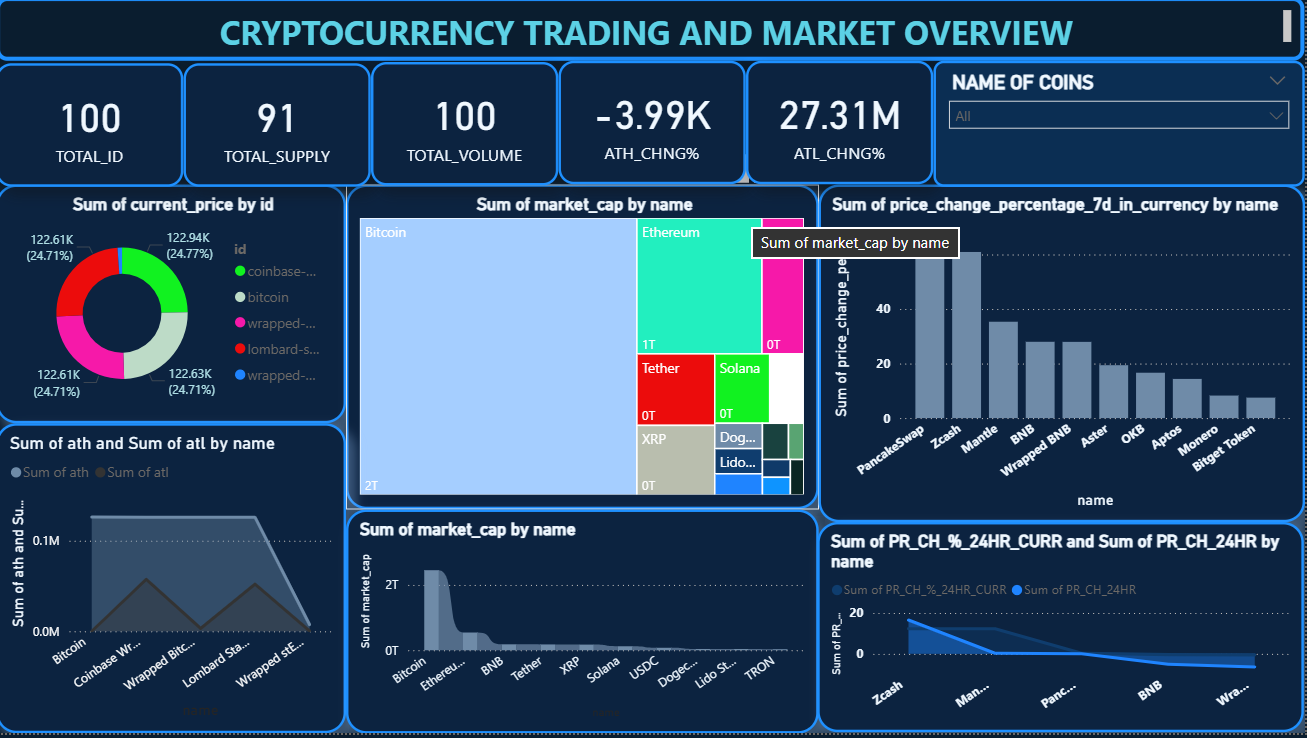

What the dashboard file says about the page in this screenshot:
{"tool":"powerbi","page":{"name":"dashboard","canvas":[1280,720],"ordinal":12},"visuals":[{"type":"textbox","box":[0,0,1280.3,62.4],"z":0},{"type":"donutChart","fields":{"Category":["markets?vs_currency=usd&order=market_cap_desc&per_page=100&page=1&price_change_p.id"],"Y":["Sum(markets?vs_currency=usd&order=market_cap_desc&per_page=100&page=1&price_change_p.current_price)"]},"box":[0,183.4,342.4,233.6],"z":1000},{"type":"treemap","fields":{"Group":["markets?vs_currency=usd&order=market_cap_desc&per_page=100&page=1&price_change_p.name"],"Values":["Sum(markets?vs_currency=usd&order=market_cap_desc&per_page=100&page=1&price_change_p.market_cap)"]},"box":[342.4,183.4,462.2,317.9],"z":2000},{"type":"areaChart","fields":{"Category":["markets?vs_currency=usd&order=market_cap_desc&per_page=100&page=1&price_change_p.name"],"Y":["Sum(markets?vs_currency=usd&order=market_cap_desc&per_page=100&page=1&price_change_p.ath)","Sum(markets?vs_currency=usd&order=market_cap_desc&per_page=100&page=1&price_change_p.atl)"]},"box":[0,417,342.4,303.3],"z":3000},{"type":"clusteredColumnChart","fields":{"Category":["markets?vs_currency=usd&order=market_cap_desc&per_page=100&page=1&price_change_p.name"],"Y":["Sum(markets?vs_currency=usd&order=market_cap_desc&per_page=100&page=1&price_change_p.price_change_percentage_7d_in_curre"]},"box":[804.1,183.9,476.2,330.7],"z":4000},{"type":"ribbonChart","fields":{"Category":["markets?vs_currency=usd&order=market_cap_desc&per_page=100&page=1&price_change_p.name"],"Y":["Sum(markets?vs_currency=usd&order=market_cap_desc&per_page=100&page=1&price_change_p.market_cap)"]},"box":[342.4,501.4,462.2,218.9],"z":5000},{"type":"card","fields":{"Values":["Count(markets?vs_currency=usd&order=market_cap_desc&per_page=100&page=1&price_change_p.id)"]},"box":[0,64.8,183.4,121.1],"z":6000},{"type":"card","fields":{"Values":["Count(markets?vs_currency=usd&order=market_cap_desc&per_page=100&page=1&price_change_p.total_supply)"]},"box":[183.4,64.8,183.4,121.1],"z":7000},{"type":"card","fields":{"Values":["Count(markets?vs_currency=usd&order=market_cap_desc&per_page=100&page=1&price_change_p.total_volume)"]},"box":[366.8,63.6,183.4,121.1],"z":8000},{"type":"card","fields":{"Values":["Sum(markets?vs_currency=usd&order=market_cap_desc&per_page=100&page=1&price_change_p.ath_change_percentage)"]},"box":[550.3,62.4,183.4,121.1],"z":9000},{"type":"card","fields":{"Values":["Sum(markets?vs_currency=usd&order=market_cap_desc&per_page=100&page=1&price_change_p.atl_change_percentage)"]},"box":[733.7,62.4,183.4,121.1],"z":10000},{"type":"areaChart","fields":{"Category":["markets?vs_currency=usd&order=market_cap_desc&per_page=100&page=1&price_change_p.name"],"Y":["Sum(markets?vs_currency=usd&order=market_cap_desc&per_page=100&page=1&price_change_p.PR_CH_%_24HR_CURR)","Sum(markets?vs_currency=usd&order=market_cap_desc&per_page=100&page=1&price_change_p.PR_CH_24HR)"]},"box":[804,514.2,476.3,205.4],"z":11000},{"type":"slicer","fields":{"Values":["markets?vs_currency=usd&order=market_cap_desc&per_page=100&page=1&price_change_p.name"]},"box":[917.1,62.4,363.2,123.5],"z":12000}]}

Visuals, with their boxes in screenshot pixels (x1, y1, x2, y2), scaled from the page's 1280x720 canvas onto the 1307x738 screenshot:
textbox: crop(0, 0, 1306, 64)
donutChart - markets?vs_currency=usd&order=market_cap_desc&per_page=100&page=1&price_change_p.id x Sum(markets?vs_currency=usd&order=market_cap_desc&per_page=100&page=1&price_change_p.current_price): crop(0, 188, 350, 427)
treemap - markets?vs_currency=usd&order=market_cap_desc&per_page=100&page=1&price_change_p.name x Sum(markets?vs_currency=usd&order=market_cap_desc&per_page=100&page=1&price_change_p.market_cap): crop(350, 188, 822, 514)
areaChart - markets?vs_currency=usd&order=market_cap_desc&per_page=100&page=1&price_change_p.name x Sum(markets?vs_currency=usd&order=market_cap_desc&per_page=100&page=1&price_change_p.ath): crop(0, 427, 350, 737)
clusteredColumnChart - markets?vs_currency=usd&order=market_cap_desc&per_page=100&page=1&price_change_p.name x Sum(markets?vs_currency=usd&order=market_cap_desc&per_page=100&page=1&price_change_p.price_change_percentage_7d_in_curre: crop(821, 188, 1306, 527)
ribbonChart - markets?vs_currency=usd&order=market_cap_desc&per_page=100&page=1&price_change_p.name x Sum(markets?vs_currency=usd&order=market_cap_desc&per_page=100&page=1&price_change_p.market_cap): crop(350, 514, 822, 737)
card - Count(markets?vs_currency=usd&order=market_cap_desc&per_page=100&page=1&price_change_p.id): crop(0, 66, 187, 191)
card - Count(markets?vs_currency=usd&order=market_cap_desc&per_page=100&page=1&price_change_p.total_supply): crop(187, 66, 375, 191)
card - Count(markets?vs_currency=usd&order=market_cap_desc&per_page=100&page=1&price_change_p.total_volume): crop(375, 65, 562, 189)
card - Sum(markets?vs_currency=usd&order=market_cap_desc&per_page=100&page=1&price_change_p.ath_change_percentage): crop(562, 64, 749, 188)
card - Sum(markets?vs_currency=usd&order=market_cap_desc&per_page=100&page=1&price_change_p.atl_change_percentage): crop(749, 64, 936, 188)
areaChart - markets?vs_currency=usd&order=market_cap_desc&per_page=100&page=1&price_change_p.name x Sum(markets?vs_currency=usd&order=market_cap_desc&per_page=100&page=1&price_change_p.PR_CH_%_24HR_CURR): crop(821, 527, 1306, 737)
slicer - markets?vs_currency=usd&order=market_cap_desc&per_page=100&page=1&price_change_p.name: crop(936, 64, 1306, 191)
